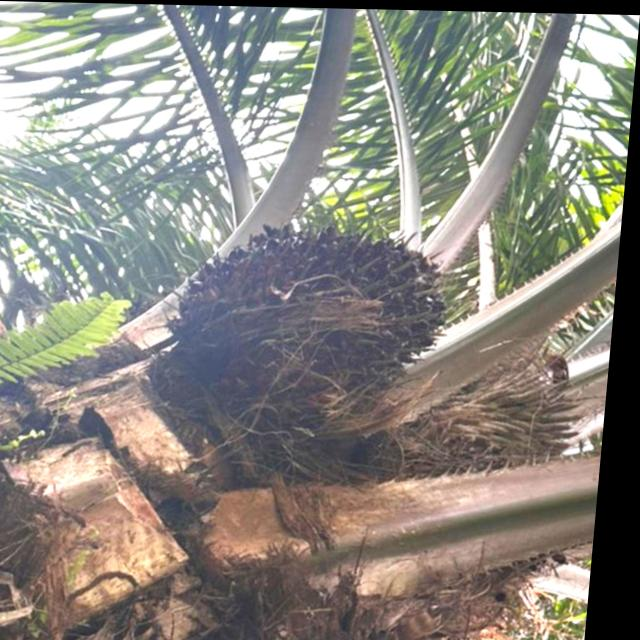ripe: (167, 204, 491, 405)
